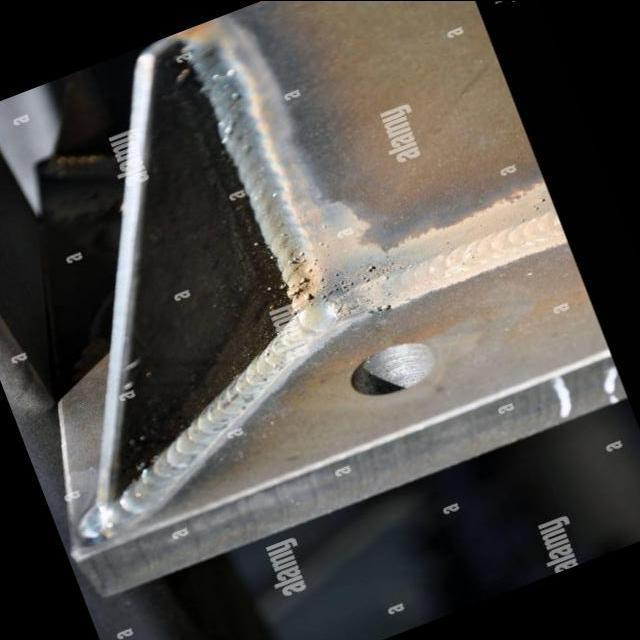defect: (285, 249, 319, 308), (319, 272, 356, 302), (359, 261, 376, 273), (376, 301, 392, 312), (379, 272, 390, 281), (360, 275, 371, 282)
